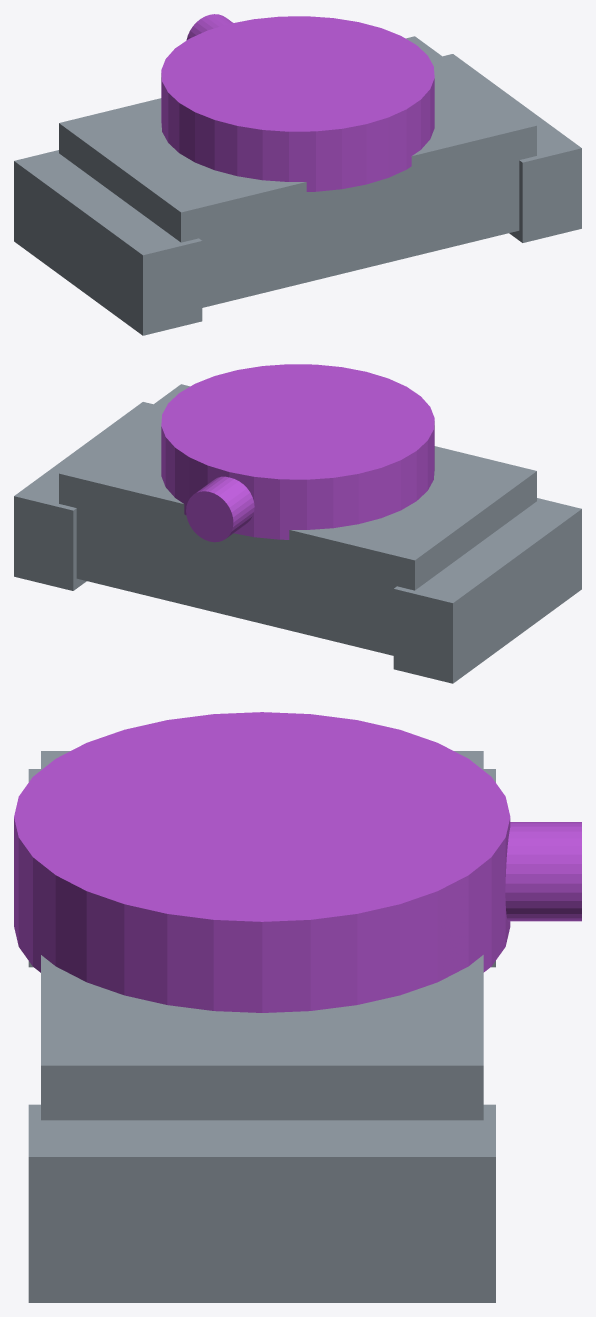
Rendered from CH_ParallaxScout_LOD0.glb.
The picture shows the model from 3 angles, top to bottom: view 1: azimuth 30°, elevation 25°; view 2: azimuth 150°, elevation 25°; view 3: azimuth 270°, elevation 25°; orthographic projection. The views are drawn at different scales.
Visible parts, largest first — view 1: Chassis; view 2: Chassis; view 3: Chassis.
Boxes of the visible parts, x1,y1,x2,y2 form: Chassis: (14, 14, 581, 335); Chassis: (14, 364, 581, 683); Chassis: (14, 712, 581, 1302).
Size of the model in its own units: 411 by 144 by 254.
